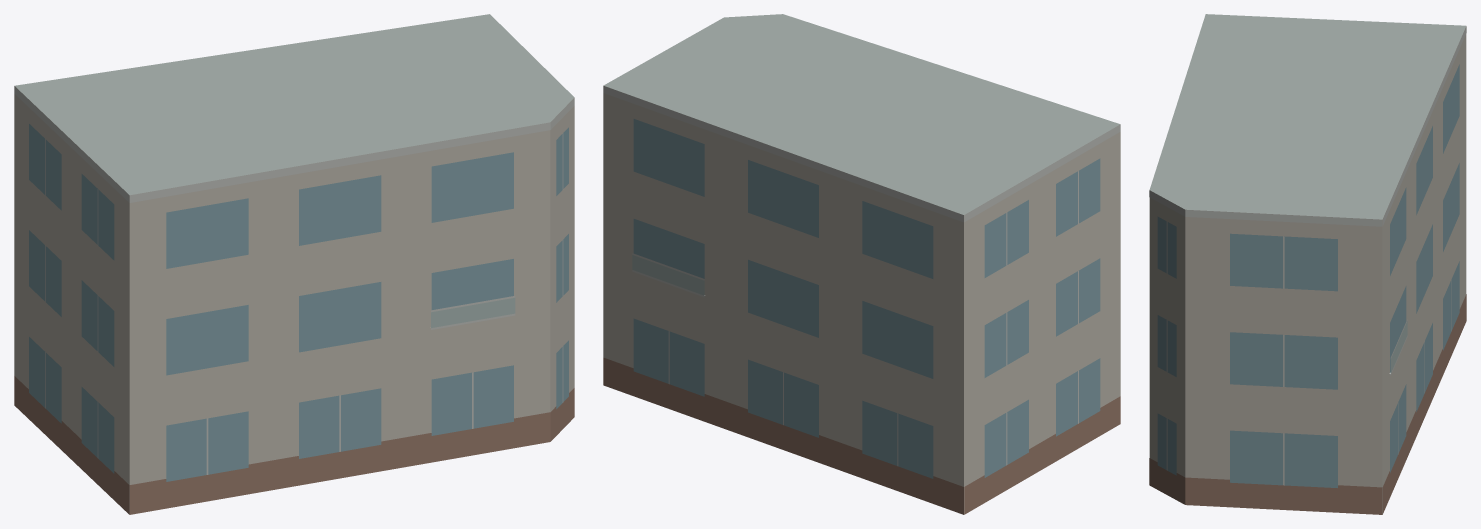
Rendered from survey-upis-32992103.glb.
The picture shows the model from 3 angles, left to right: view 1: azimuth 30°, elevation 25°; view 2: azimuth 150°, elevation 25°; view 3: azimuth 270°, elevation 25°; orthographic projection. The views are drawn at different scales.
Parts seen in each view (by area): view 1: survey-upis-32992103.tmp; view 2: survey-upis-32992103.tmp; view 3: survey-upis-32992103.tmp.
Boxes of the visible parts, bbox=[...] form: survey-upis-32992103.tmp: bbox=[14, 14, 574, 514]; survey-upis-32992103.tmp: bbox=[603, 14, 1120, 514]; survey-upis-32992103.tmp: bbox=[1149, 14, 1466, 514].
Bounding box in the file's own units: 14.94 × 10 × 9.74.
